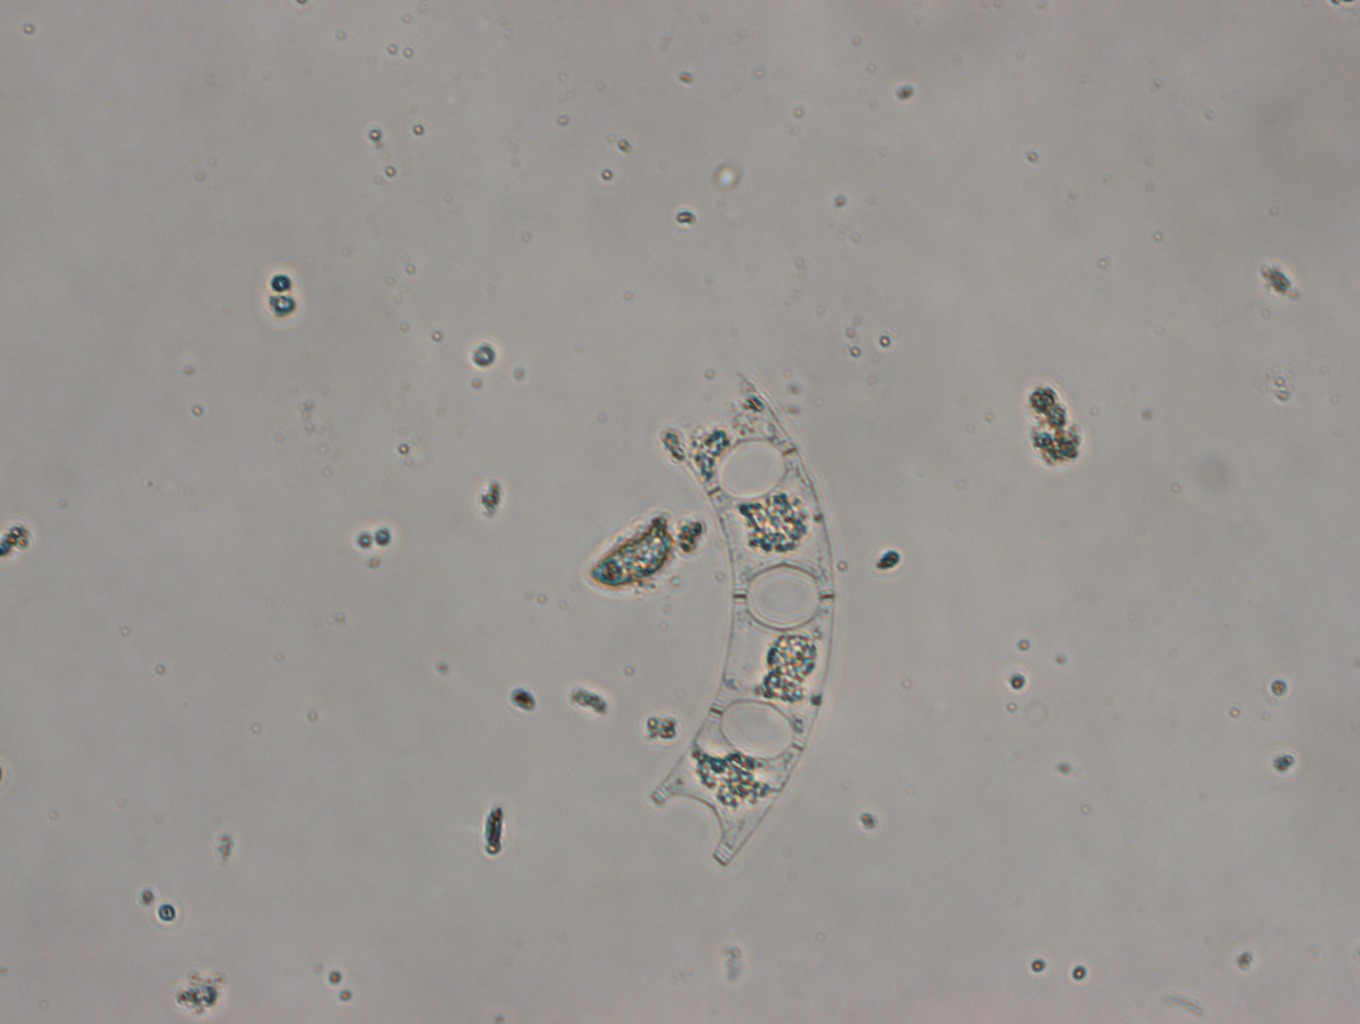eucampia: (646, 366, 850, 874)
